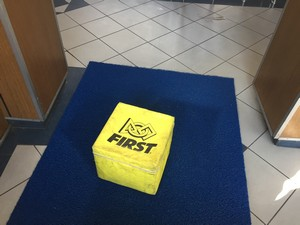cube: (90, 102, 176, 198)
